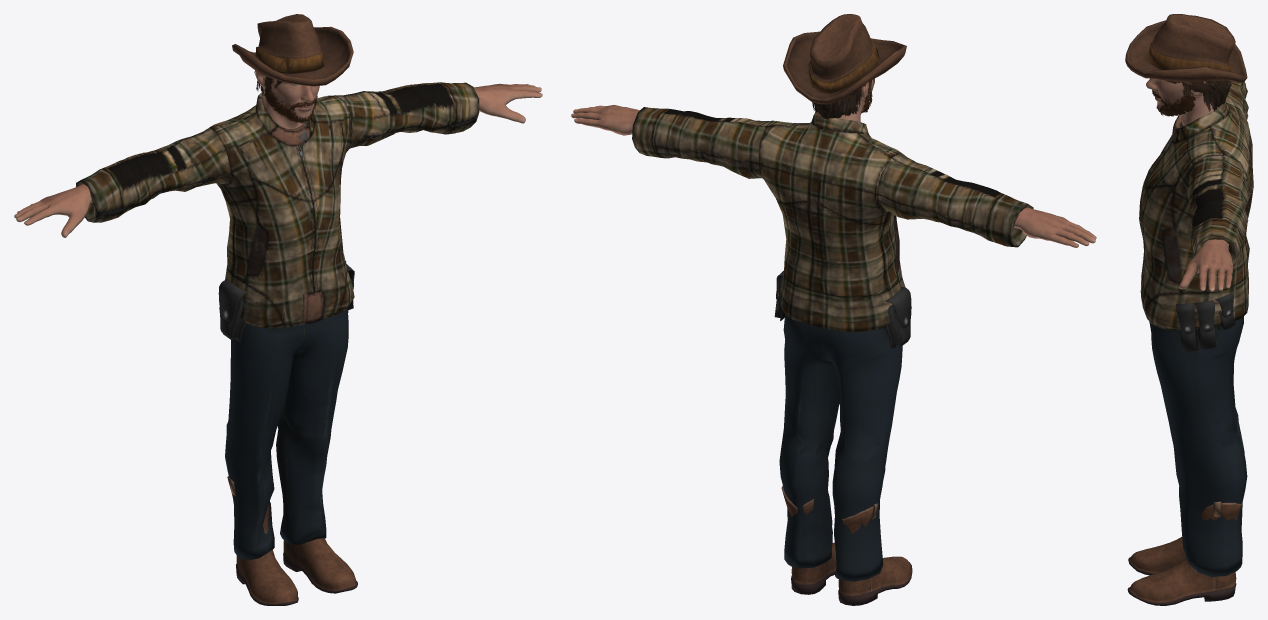
Rendered from cb_no_bones_02.fbx.
3 views of the same model, side by side, from view 1: azimuth 30°, elevation 25°; view 2: azimuth 150°, elevation 25°; view 3: azimuth 270°, elevation 25° (orthographic).
Visible parts, largest first — view 1: cowboy; view 2: cowboy; view 3: cowboy.
Boxes of the visible parts, x1,y1,x2,y2 form: cowboy: [14, 14, 542, 605]; cowboy: [571, 14, 1096, 605]; cowboy: [1125, 14, 1253, 605].
Size of the model in its own units: 18033 by 18582 by 3819.
